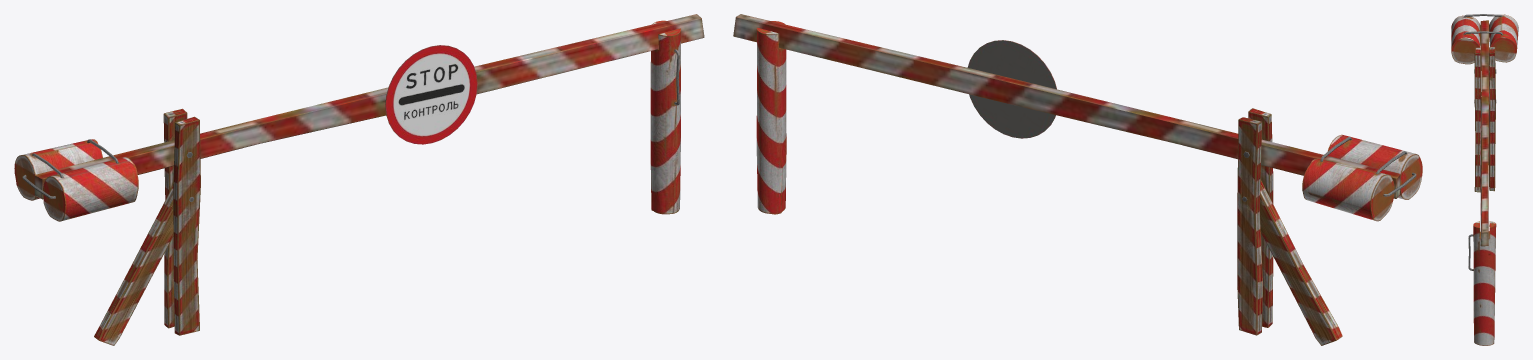
Rendered from prop_barrier.glb.
3 renders of one model, left to right at view 1: azimuth 30°, elevation 25°; view 2: azimuth 150°, elevation 25°; view 3: azimuth 270°, elevation 25°, orthographic. The views are drawn at different scales.
Visible parts, largest first — view 1: Object_2; view 2: Object_2; view 3: Object_2.
Part boxes in pixels (x1,y1,x2,y2): Object_2: (14,14,704,345); Object_2: (733,14,1422,345); Object_2: (1451,14,1518,345).
Bounding box in the file's own units: 5.9 × 1.89 × 0.7869.
1 material, 1 textured.
